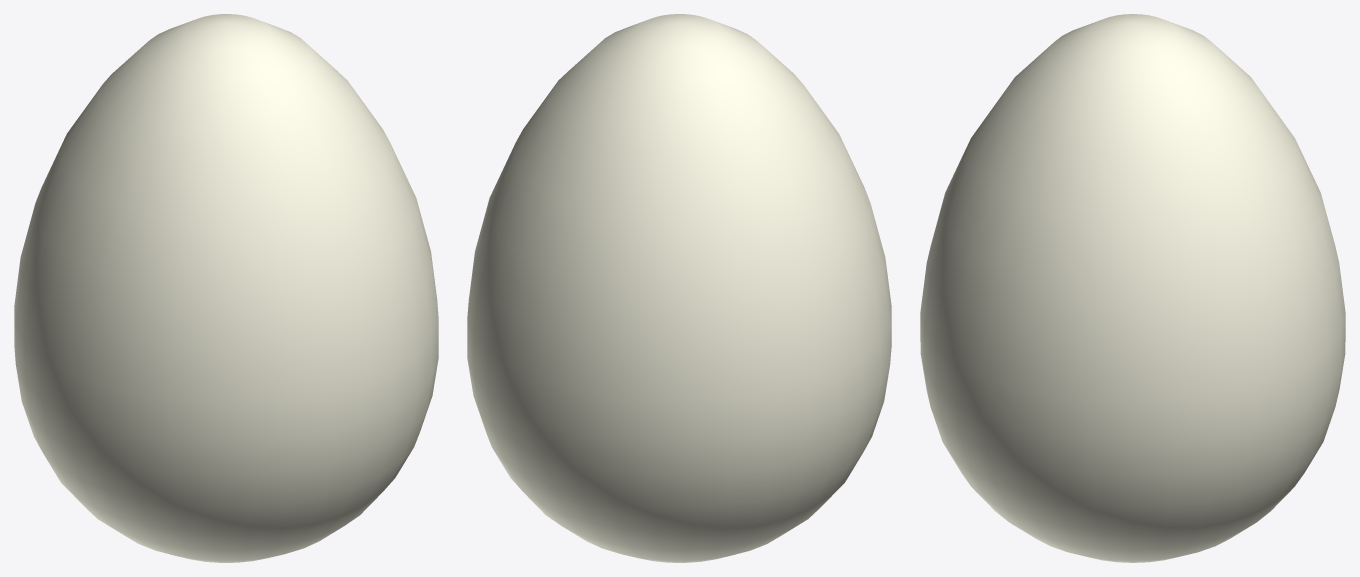
The model's file is egg.obj.
3 renders of one model, left to right at view 1: azimuth 30°, elevation 25°; view 2: azimuth 150°, elevation 25°; view 3: azimuth 270°, elevation 25°, orthographic.
Visible parts, largest first — view 1: Sphere001; view 2: Sphere001; view 3: Sphere001.
Part boxes in pixels (bbox=[...]): Sphere001: bbox=[14, 14, 438, 562]; Sphere001: bbox=[467, 14, 891, 562]; Sphere001: bbox=[920, 14, 1345, 562].
Bounding box in the file's own units: 14.96 × 20.2 × 14.96.
